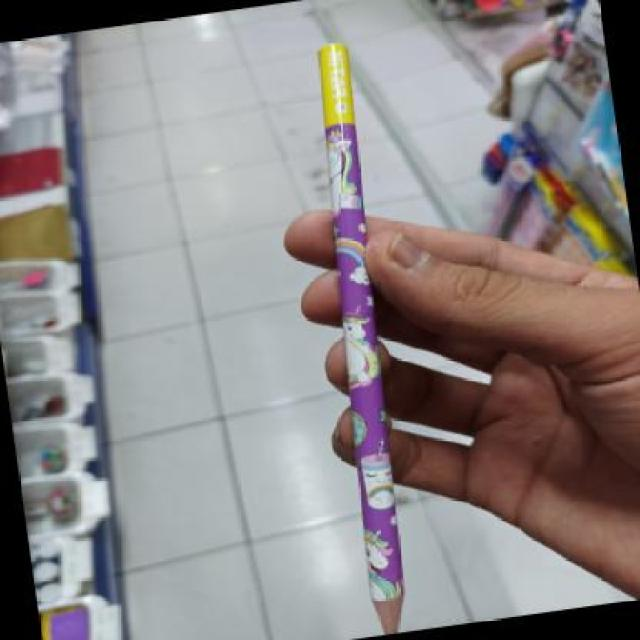pencil: (285, 39, 433, 636)
